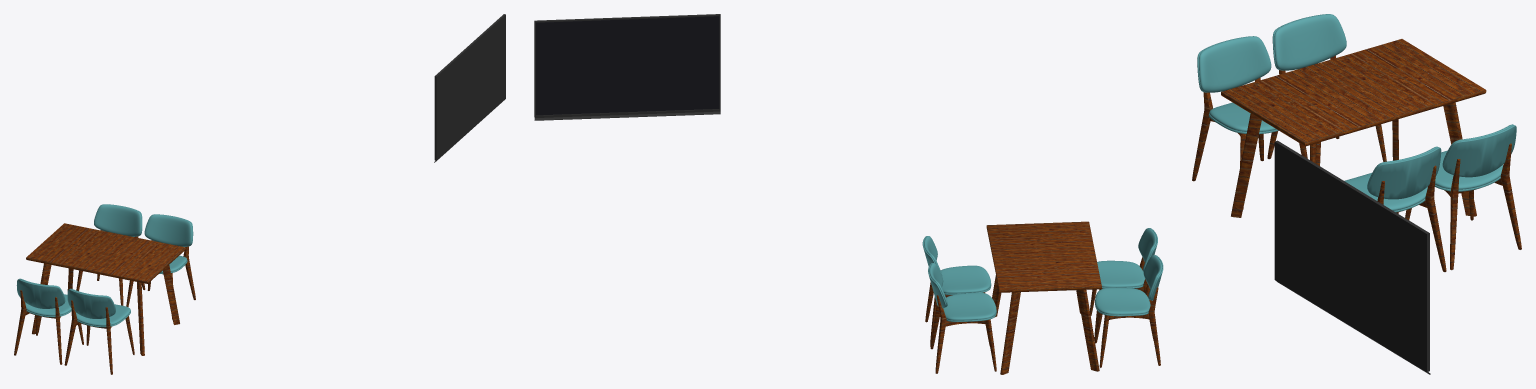
Rendered from house_furniture.glb.
3 views of the same model, side by side, from view 1: azimuth 30°, elevation 25°; view 2: azimuth 150°, elevation 25°; view 3: azimuth 270°, elevation 25° (orthographic). The views are drawn at different scales.
Visible parts, largest first — view 1: DiningSet, TV; view 2: TV, DiningSet; view 3: DiningSet, TV.
Part boxes in pixels (x1,y1,x2,y2): DiningSet: [14, 204, 195, 374]; TV: [434, 14, 505, 162]; TV: [534, 14, 720, 120]; DiningSet: [922, 221, 1163, 374]; DiningSet: [1192, 14, 1521, 272]; TV: [1274, 140, 1430, 374].
Size of the model in its own units: 5.34 by 1.91 by 1.79.
Materials: 6 (1 with a texture image).
